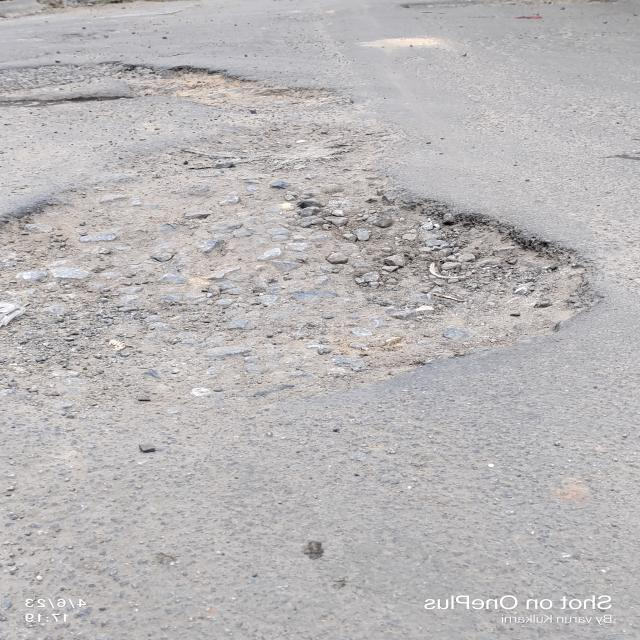potholes: (0, 66, 565, 448)
